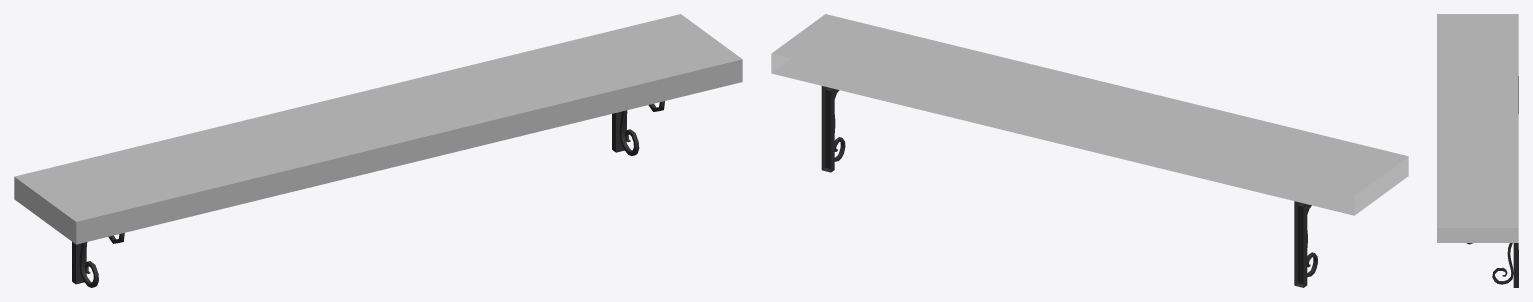
The model's file is shelf-5.fbx.
The picture shows the model from 3 angles, left to right: view 1: azimuth 30°, elevation 25°; view 2: azimuth 150°, elevation 25°; view 3: azimuth 270°, elevation 25°; orthographic projection. The views are drawn at different scales.
Visible parts, largest first — view 1: shelf-5; view 2: shelf-5; view 3: shelf-5.
Part boxes in pixels (x1,y1,x2,y2): shelf-5: [14, 14, 742, 287]; shelf-5: [771, 14, 1408, 287]; shelf-5: [1437, 14, 1518, 287].
Size of the model in its own units: 173 by 29.54 by 27.92.
2 materials, 2 textured.
